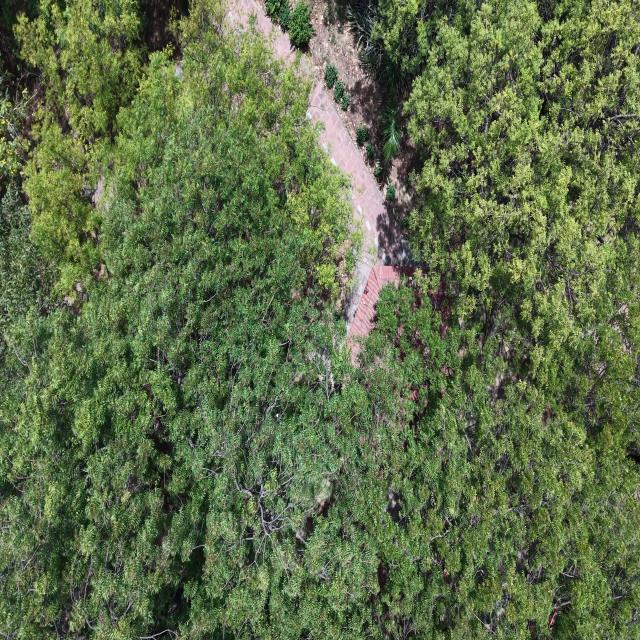DRY_AREA: (301, 57, 411, 330)
VEGETATION_TREE: (0, 0, 639, 639), (0, 3, 355, 637), (364, 2, 639, 637), (334, 276, 639, 638), (14, 0, 145, 292), (0, 73, 54, 442), (347, 0, 409, 97), (0, 75, 29, 190), (381, 102, 401, 165), (325, 63, 350, 110), (289, 0, 313, 48), (266, 0, 290, 30), (278, 1, 291, 31), (325, 63, 338, 89), (265, 0, 281, 19), (333, 79, 345, 103), (356, 124, 369, 146), (323, 2, 335, 25), (373, 163, 385, 183), (340, 92, 350, 110), (366, 142, 375, 161), (386, 185, 395, 201)
